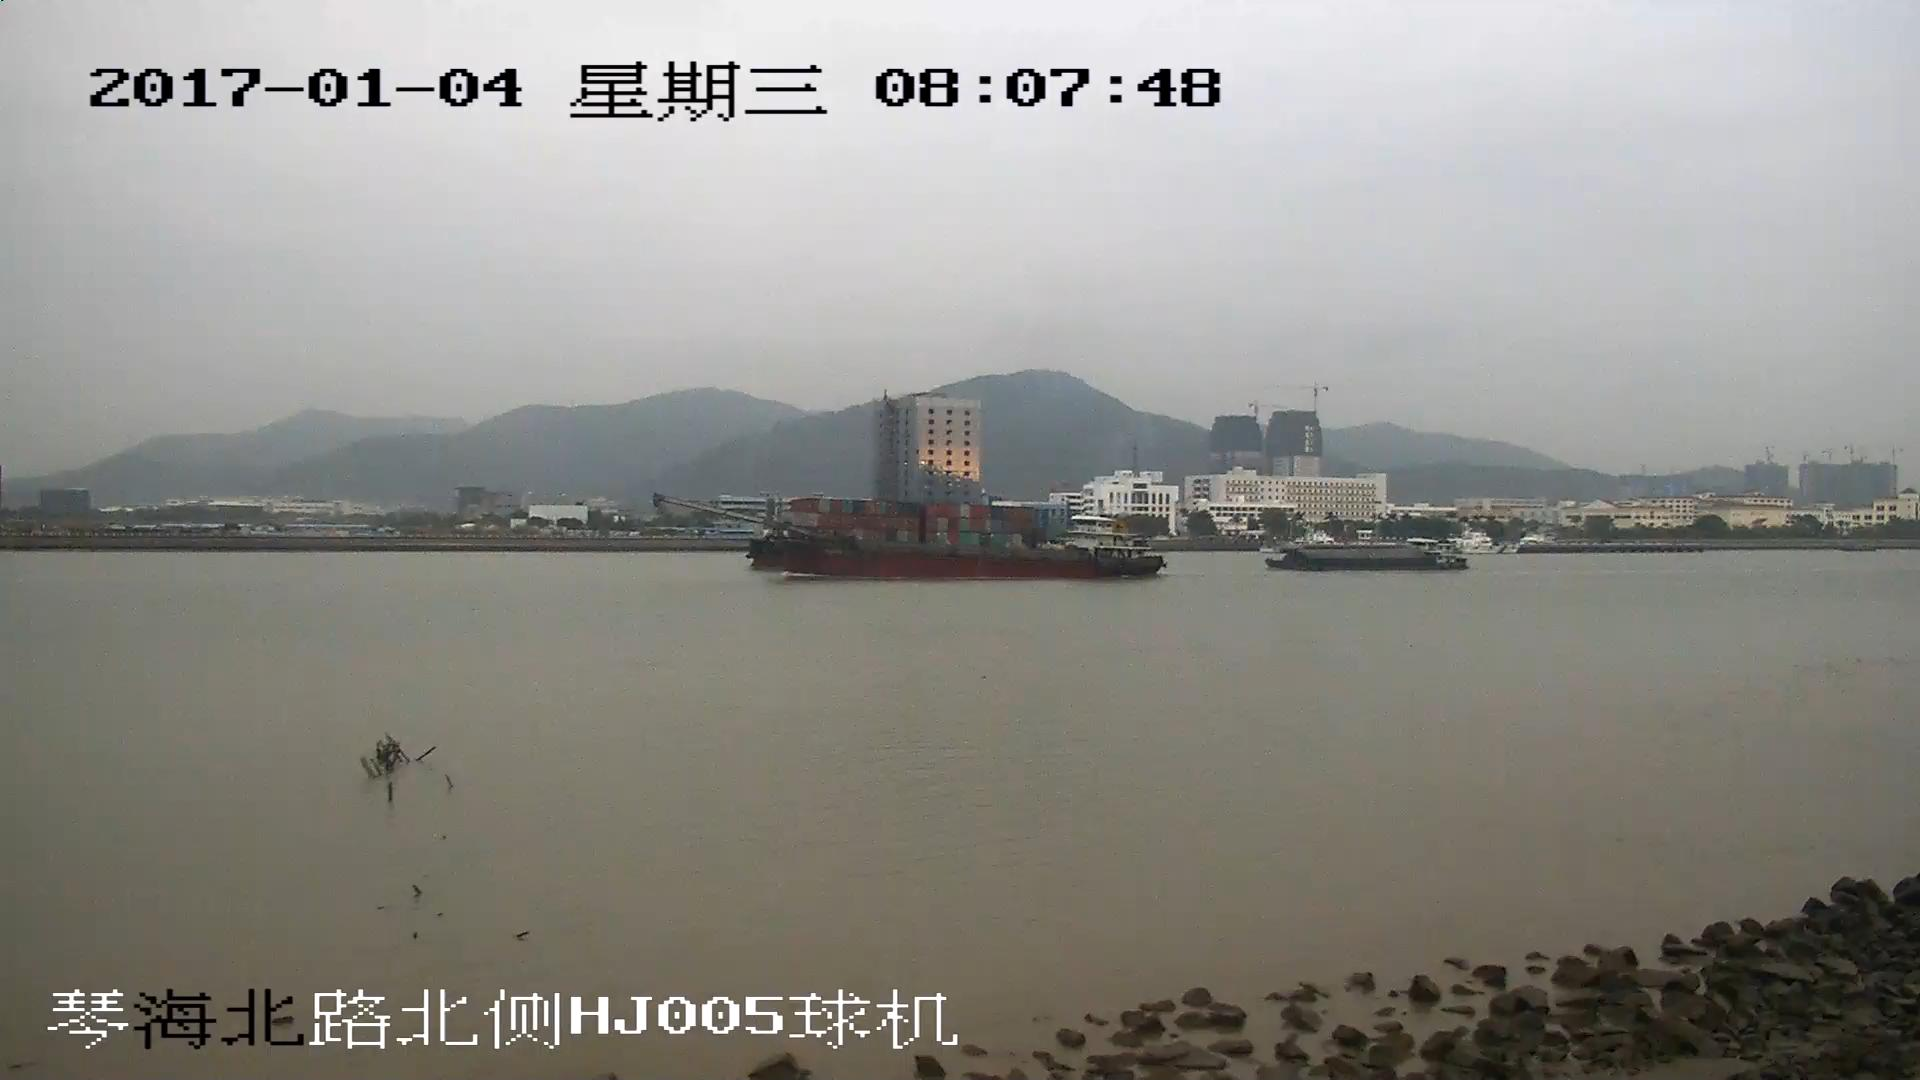bulk cargo carrier: (654, 498, 1166, 577)
general cargo ship: (1270, 545, 1466, 570)
